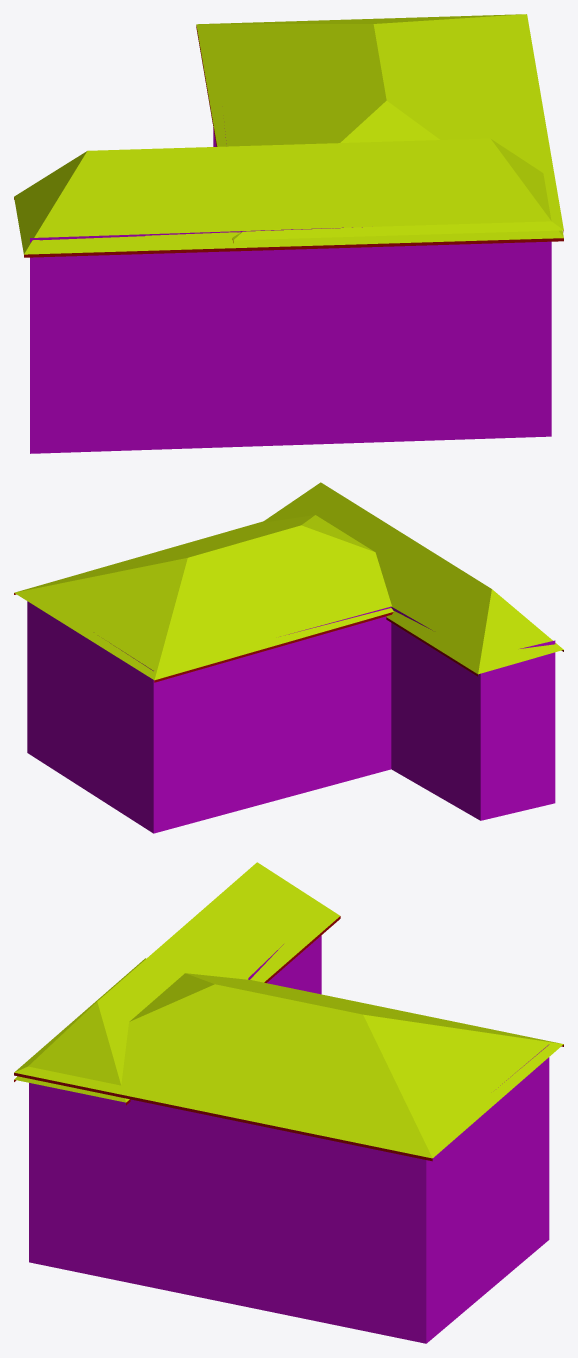
File: bgj_68.glb
3 views of the same model, one above another, from view 1: azimuth 30°, elevation 25°; view 2: azimuth 150°, elevation 25°; view 3: azimuth 270°, elevation 25° (orthographic). The views are drawn at different scales.
Visible parts, largest first — view 1: bgj_68; view 2: bgj_68; view 3: bgj_68.
Part boxes in pixels (x1,y1,x2,y2): bgj_68: (14,14,563,453); bgj_68: (14,482,563,833); bgj_68: (14,862,563,1343).
Bounding box in the file's own units: 24.51 × 10.5 × 20.9.
